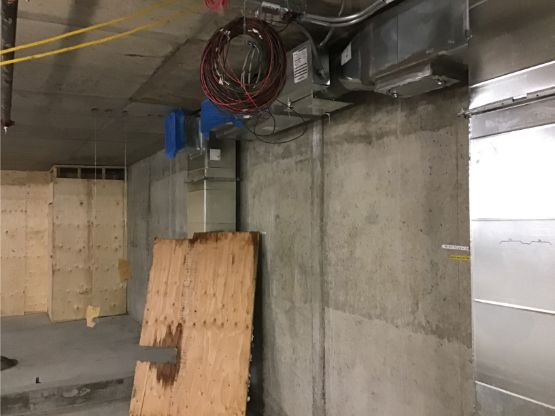Duct: (195, 1, 553, 146), (446, 1, 555, 416), (161, 92, 254, 247)
